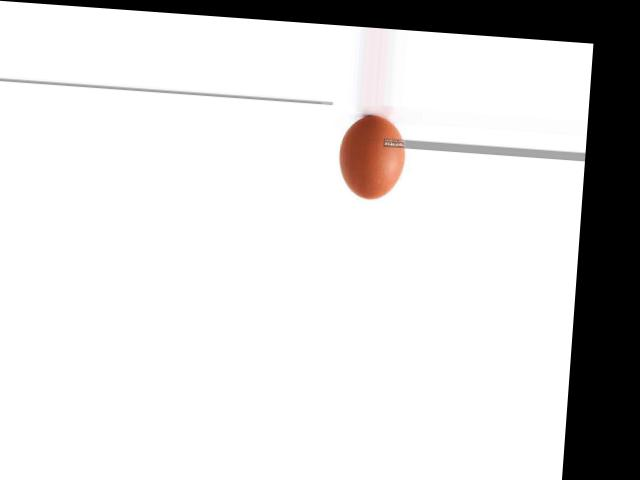egg: (337, 114, 408, 201)
